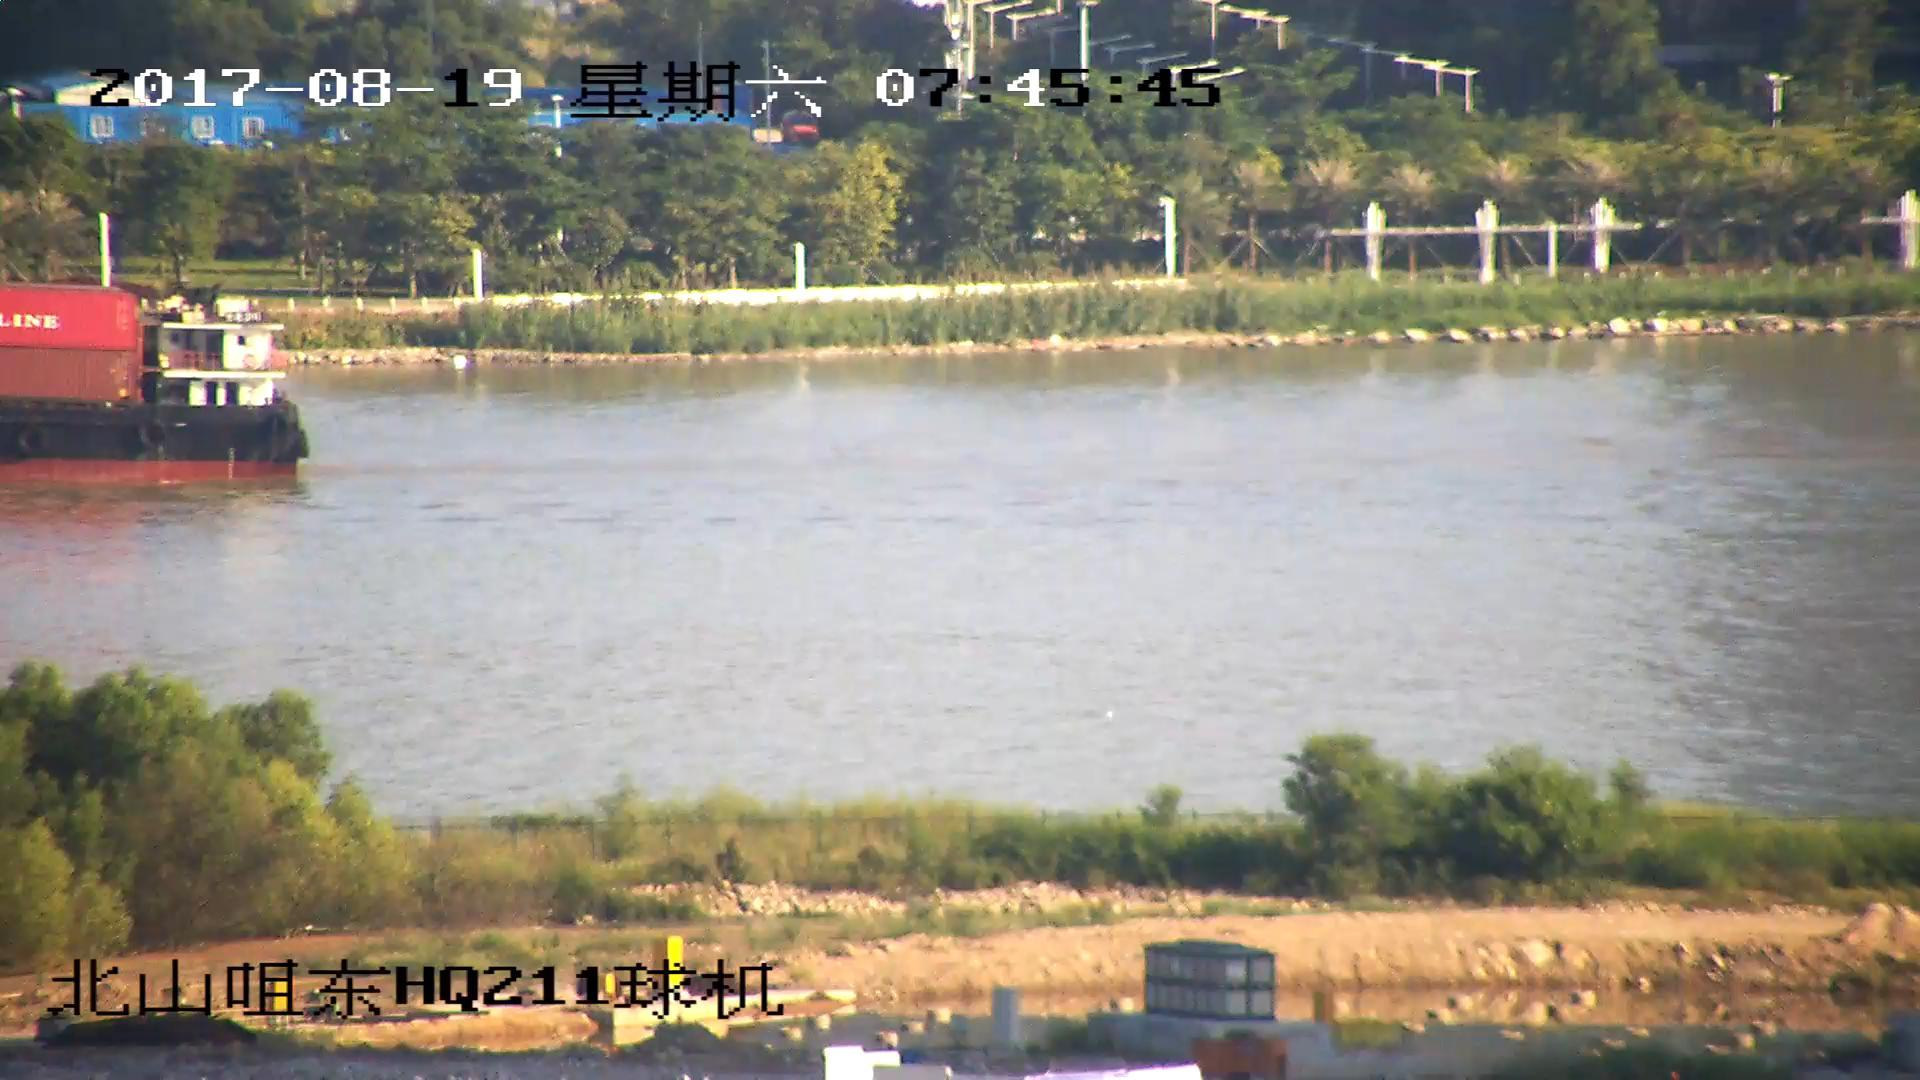Ship: (3, 280, 309, 487)
